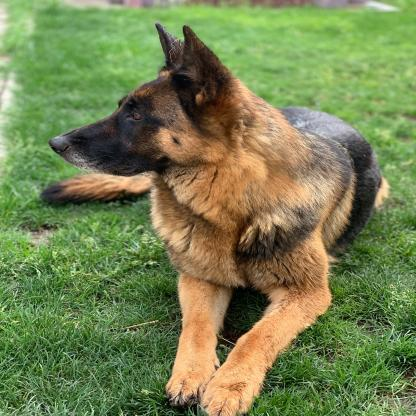german shepherd: (43, 21, 389, 416)
